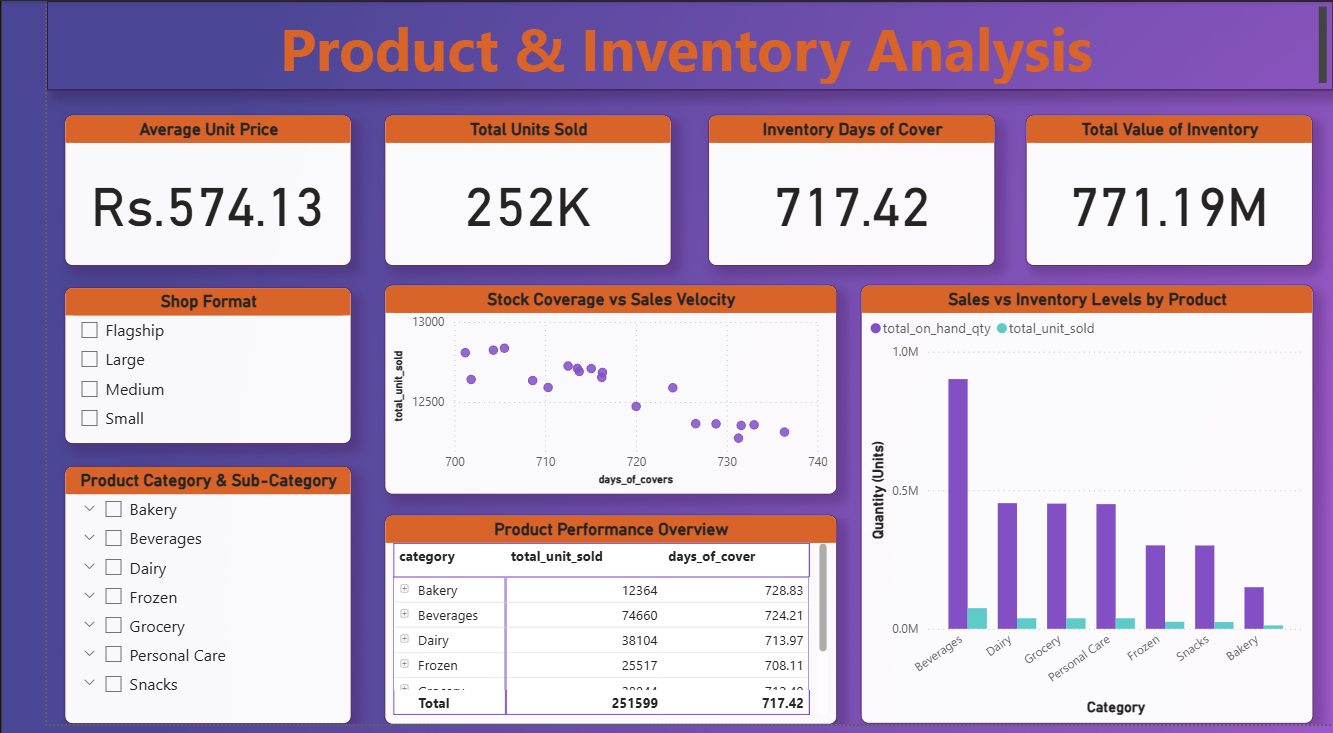

Layout of this report page (visuals, bound fields, positions):
{"tool":"powerbi","page":{"name":"product_&_inventory_analysis_dashboard","canvas":[1280,720],"ordinal":1},"visuals":[{"type":"textbox","box":[0,0,1280,88.6],"z":0},{"type":"card","title":"Average Unit Price","fields":{"Values":["measures_table.average_unit_price"]},"box":[17.1,112.9,285.7,150],"z":1000},{"type":"card","title":"Total Units Sold","fields":{"Values":["measures_table.total_unit_sold"]},"box":[335.7,112.9,285.7,150],"z":2000},{"type":"card","title":"Inventory Days of Cover","fields":{"Values":["measures_table.days_of_cover"]},"box":[658.6,112.9,285.7,150],"z":3000},{"type":"card","title":"Total Value of Inventory","fields":{"Values":["measures_table.total_value_of_inventory"]},"box":[974.3,112.9,285.7,150],"z":4000},{"type":"scatterChart","title":"Stock Coverage vs Sales Velocity","fields":{"X":["measures_table.days_of_covers"],"Y":["measures_table.total_unit_sold"],"Category":["public products.productname"]},"box":[335.7,282.9,450,208.6],"z":5000},{"type":"clusteredColumnChart","title":"Sales vs Inventory Levels by Product","fields":{"Category":["public products.category"],"Y":["measures_table.total_on_hand_qty","measures_table.total_unit_sold"]},"box":[810,282.9,450,437.1],"z":6000},{"type":"pivotTable","title":"Product Performance Overview","fields":{"Values":["measures_table.total_unit_sold","measures_table.days_of_cover"],"Rows":["public products.category","public products.subcategory","public products.productname"]},"box":[335.7,511.4,450,208.6],"z":7000},{"type":"slicer","title":"Product Category & Sub-Category","fields":{"Values":["public products.category","public products.subcategory"]},"box":[17.1,462.9,285.7,257.1],"z":8000},{"type":"slicer","title":"Shop Format","fields":{"Values":["public stores.storeformat"]},"box":[17.1,284.3,285.7,155.7],"z":9000}]}

Visuals, with their boxes in screenshot pixels (x1, y1, x2, y2), scaled from the page's 1280x720 canvas onto the 1333x733 screenshot:
textbox: 0 0 1332 90
"Average Unit Price" card: 18 115 315 268
"Total Units Sold" card: 350 115 647 268
"Inventory Days of Cover" card: 686 115 983 268
"Total Value of Inventory" card: 1015 115 1312 268
"Stock Coverage vs Sales Velocity" scatterChart: 350 288 818 500
"Sales vs Inventory Levels by Product" clusteredColumnChart: 844 288 1312 732
"Product Performance Overview" pivotTable: 350 521 818 732
"Product Category & Sub-Category" slicer: 18 471 315 732
"Shop Format" slicer: 18 289 315 448
